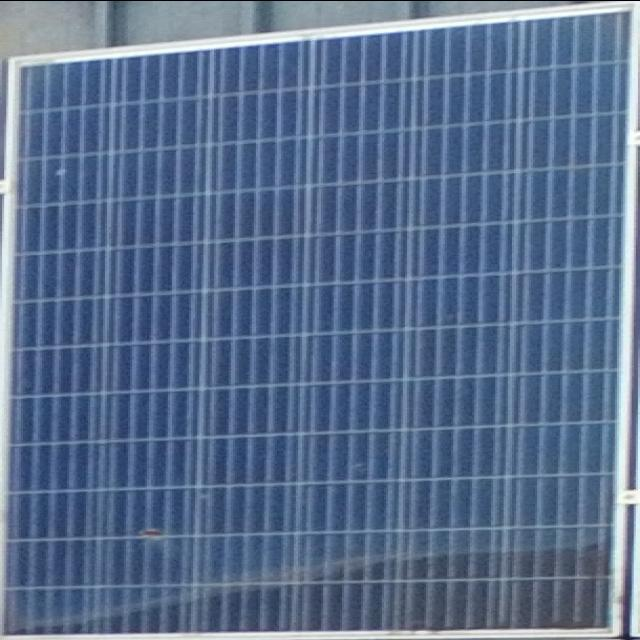Dust: (15, 543, 622, 633)
bird-droppings: (139, 520, 175, 538), (48, 164, 76, 176)
